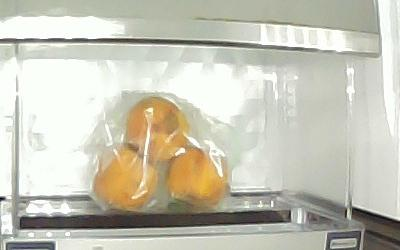peach_vinyl: (93, 144, 159, 213), (125, 97, 191, 162), (168, 144, 231, 208)
